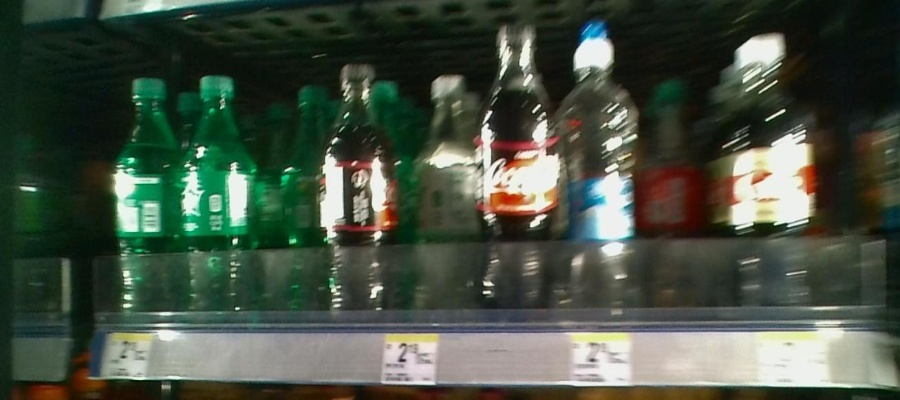bottle: (728, 27, 816, 322), (480, 24, 561, 311), (563, 17, 638, 318), (321, 64, 396, 322), (183, 72, 256, 322), (110, 74, 182, 320), (411, 66, 476, 317), (640, 68, 701, 315), (277, 74, 321, 320)
